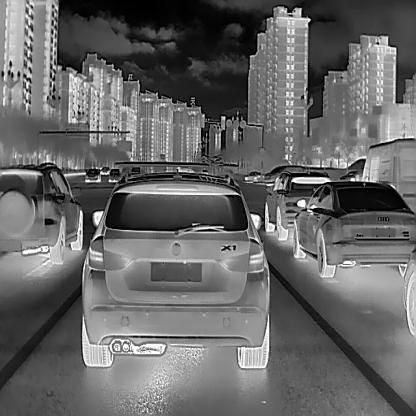car: (79, 167, 272, 372), (292, 176, 416, 279), (0, 159, 83, 264), (263, 168, 332, 243), (354, 137, 416, 220), (262, 162, 303, 189), (83, 166, 101, 183), (338, 170, 361, 182), (242, 169, 260, 181), (107, 168, 121, 182), (99, 164, 110, 175)
